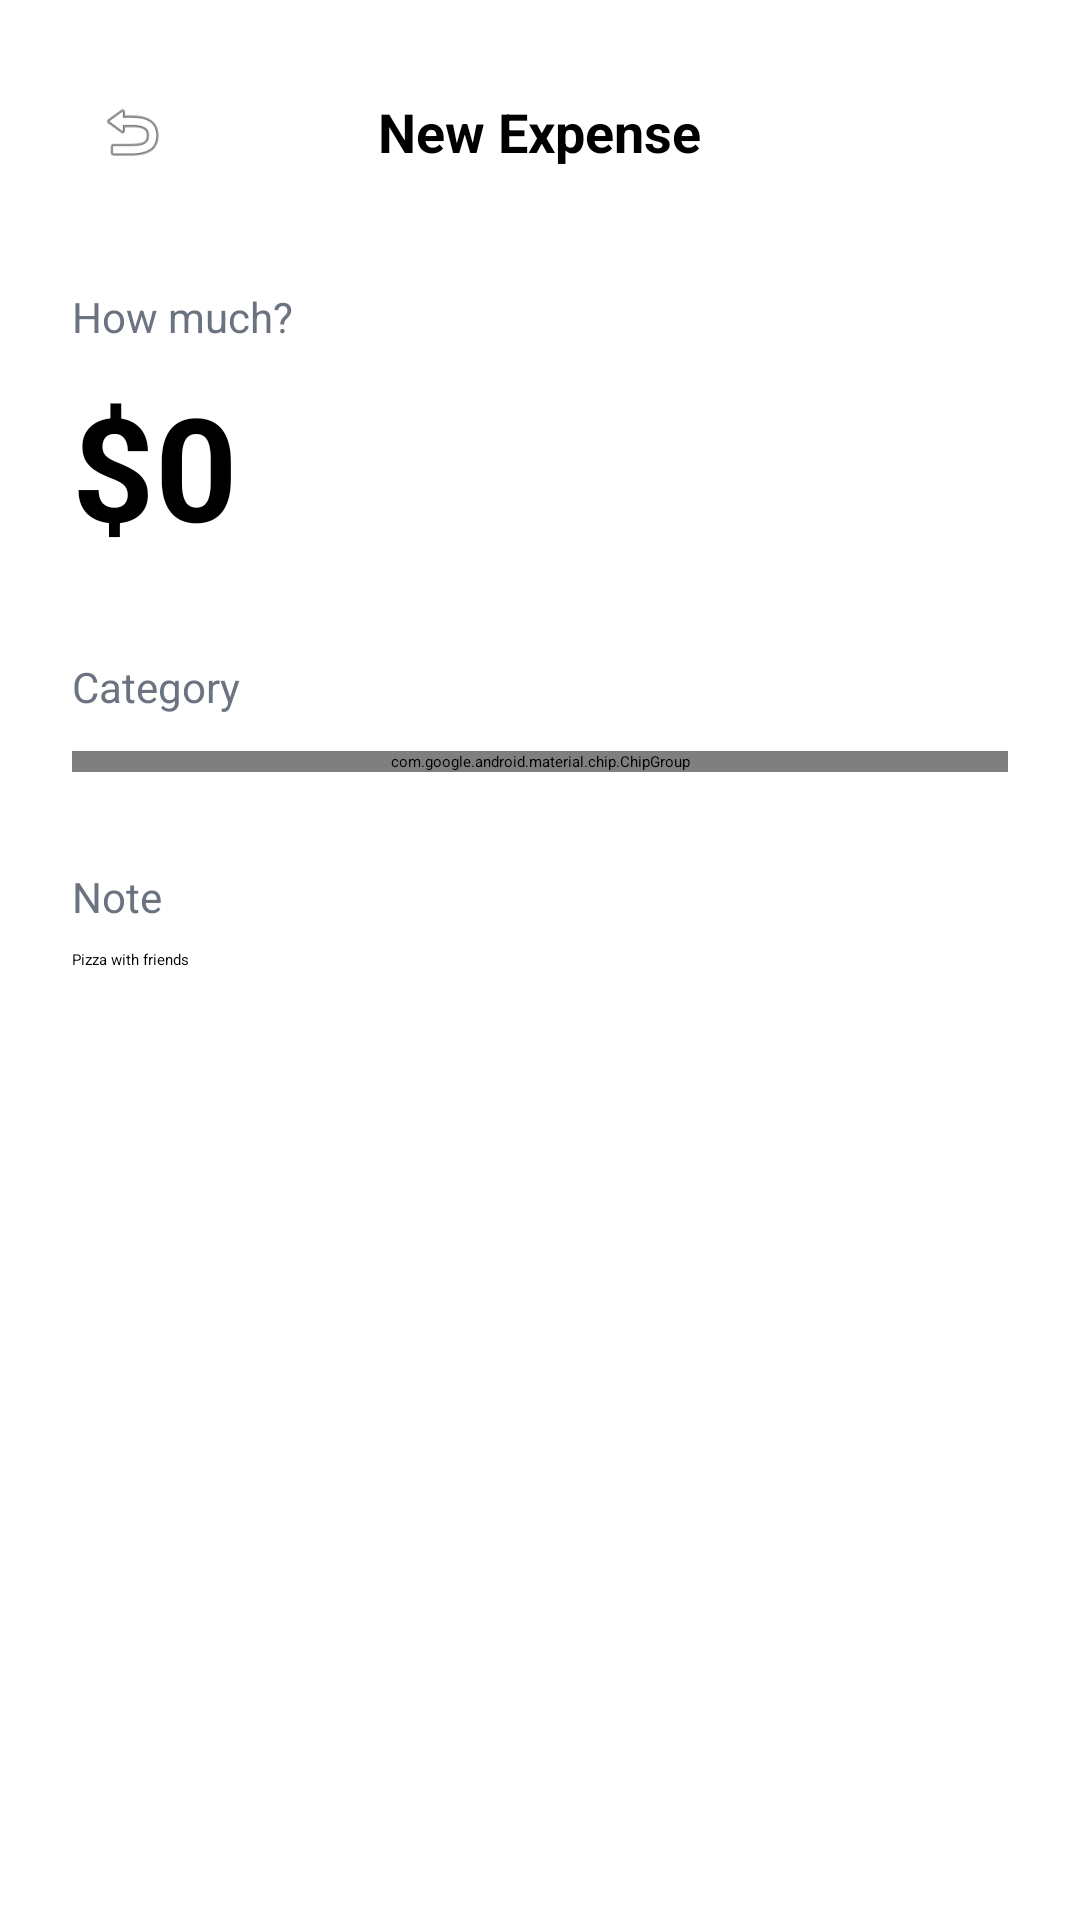

Point at icon controls on the screen. Image size 1080*1920, points as point (x, y).
revert: point (133, 132)
